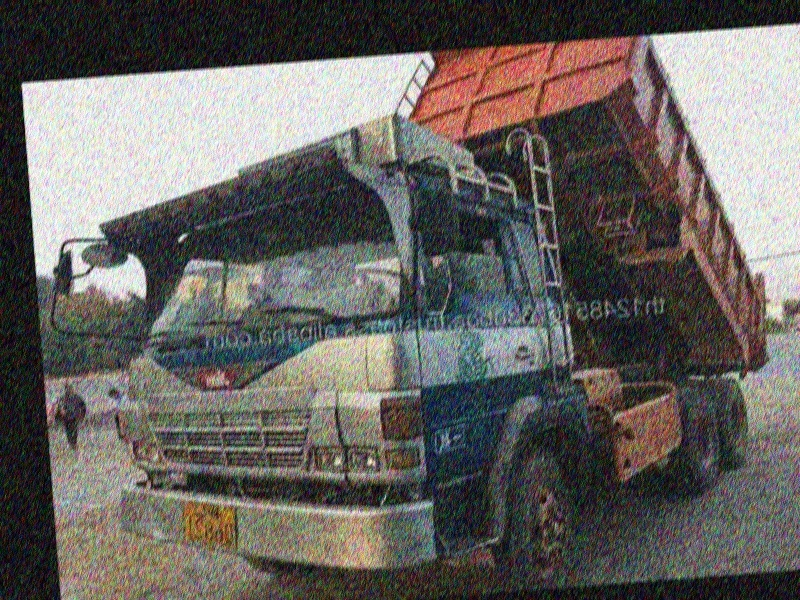truck: (89, 27, 789, 600)
